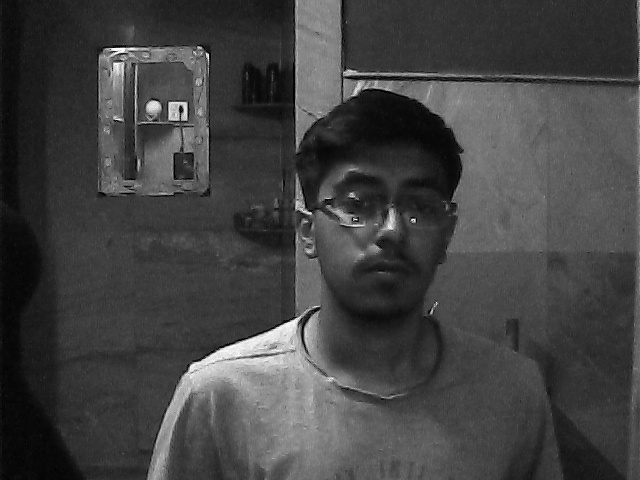nomask: (315, 132, 453, 317)
